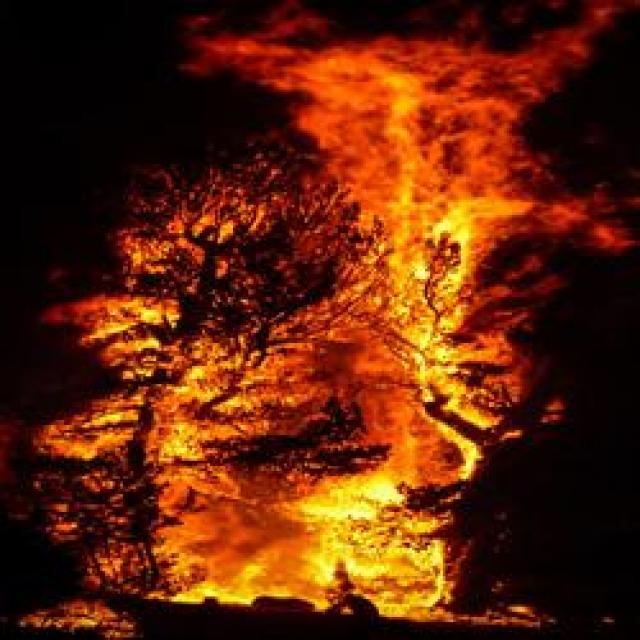fire: (86, 4, 620, 631)
